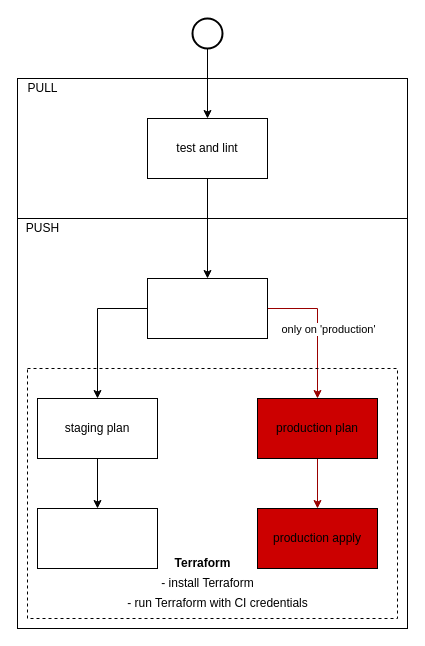
Some shapes in this 425 by 646 pixel diagram are drawn without their labels. The shapes that lost their labels are listed below. From the top down, each one's box as (x1, y1, x2, y2) in pixels, then its label:
(146, 278, 268, 338): build and push
(36, 508, 158, 568): staging apply
